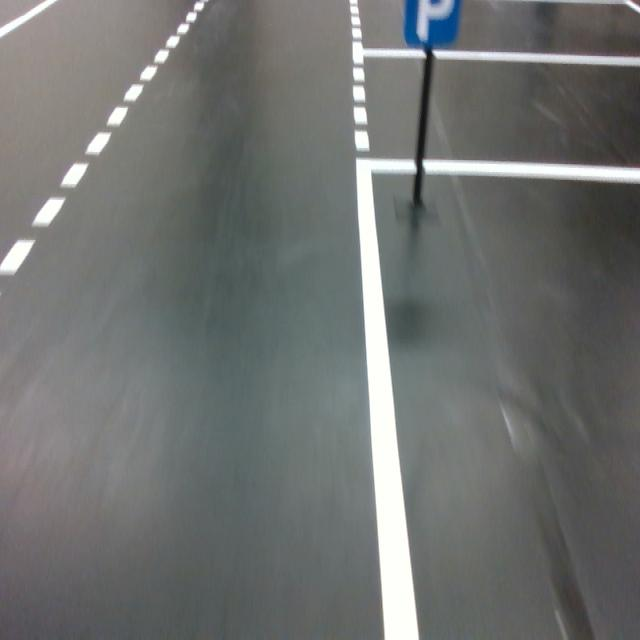parking-sign: (402, 0, 463, 49)
